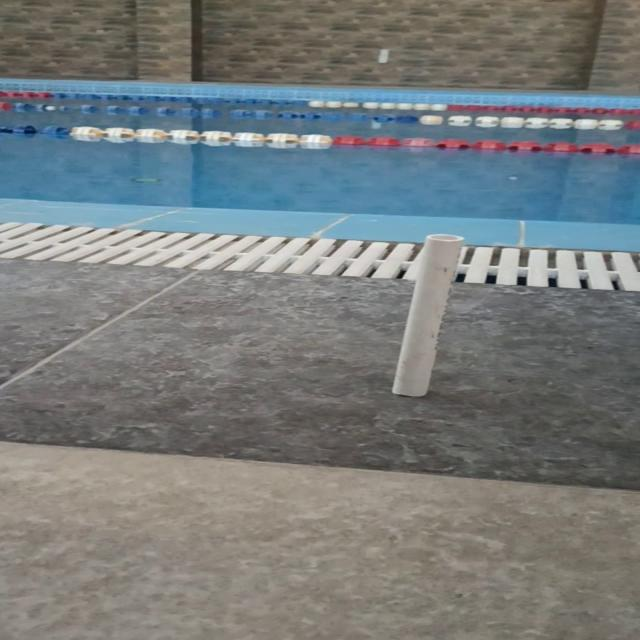Cube: (389, 233, 465, 397)
